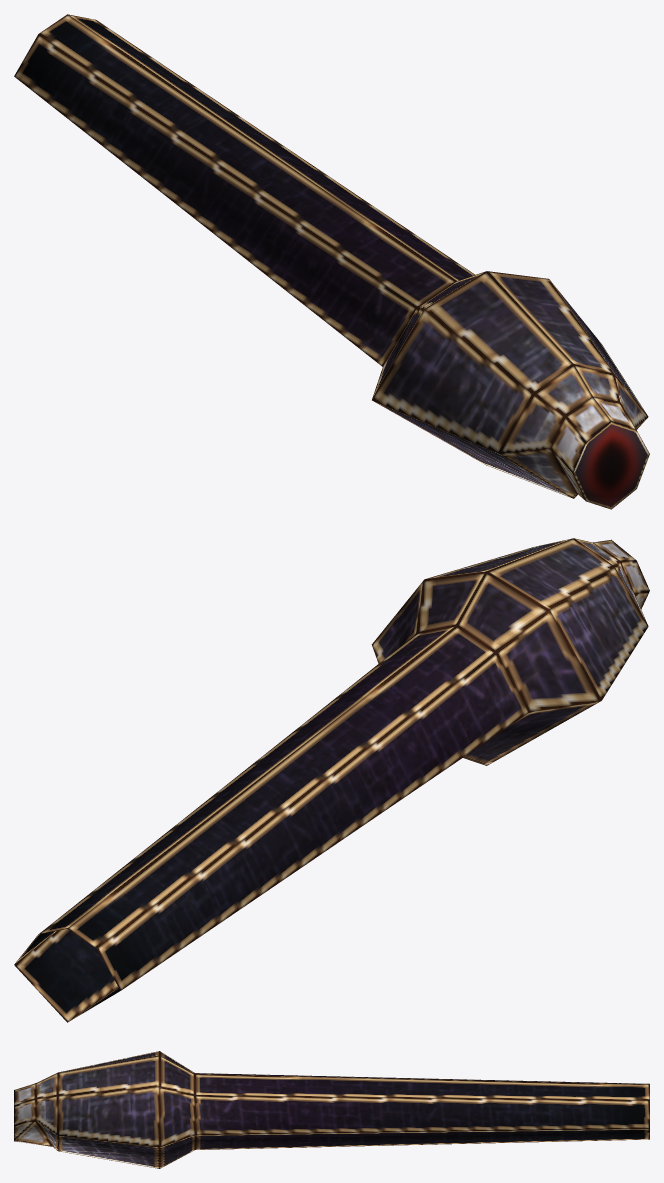
The model's file is Gun_02_L.fbx.
3 renders of one model, top to bottom at view 1: azimuth 30°, elevation 25°; view 2: azimuth 150°, elevation 25°; view 3: azimuth 270°, elevation 25°, orthographic. The views are drawn at different scales.
Parts seen in each view (by area): view 1: Laser; view 2: Laser; view 3: Laser.
Boxes of the visible parts, <box> form: Laser: <box>14,14,649,509</box>; Laser: <box>14,538,649,1022</box>; Laser: <box>14,1051,649,1168</box>.
Bounding box in the file's own units: 1.24 × 0.9995 × 5.07.
Materials: 1 (1 with a texture image).
